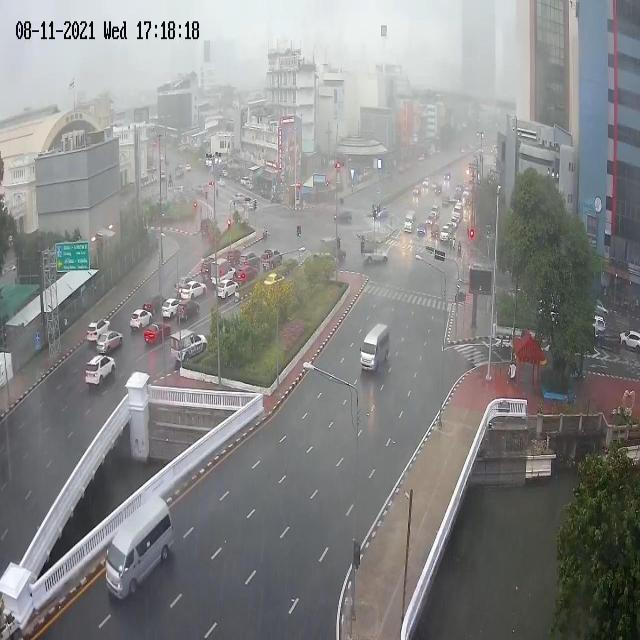Bus: (106, 493, 176, 601)
Car: (170, 330, 209, 364), (85, 352, 116, 387), (359, 236, 388, 265), (96, 330, 124, 354), (210, 259, 237, 283), (143, 323, 171, 345), (87, 318, 111, 343), (233, 264, 258, 286), (176, 300, 201, 320), (180, 281, 207, 299), (129, 310, 153, 330), (215, 280, 238, 298), (260, 250, 283, 267), (162, 298, 180, 317), (240, 252, 259, 265), (226, 248, 242, 263), (428, 224, 440, 238), (440, 228, 450, 244), (416, 223, 428, 236), (425, 214, 435, 224), (430, 205, 440, 215), (413, 185, 421, 196)
Van: (360, 324, 389, 373), (404, 211, 416, 233)
